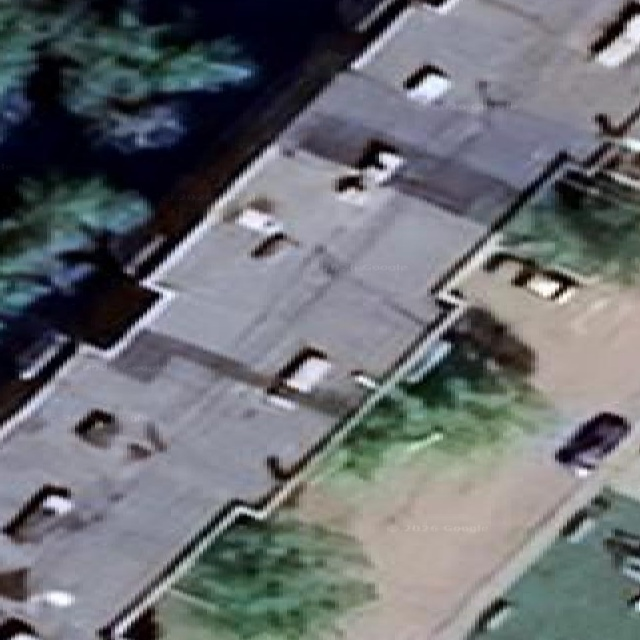car: (452, 307, 535, 375), (484, 251, 579, 303), (555, 412, 630, 475), (512, 263, 575, 303)
